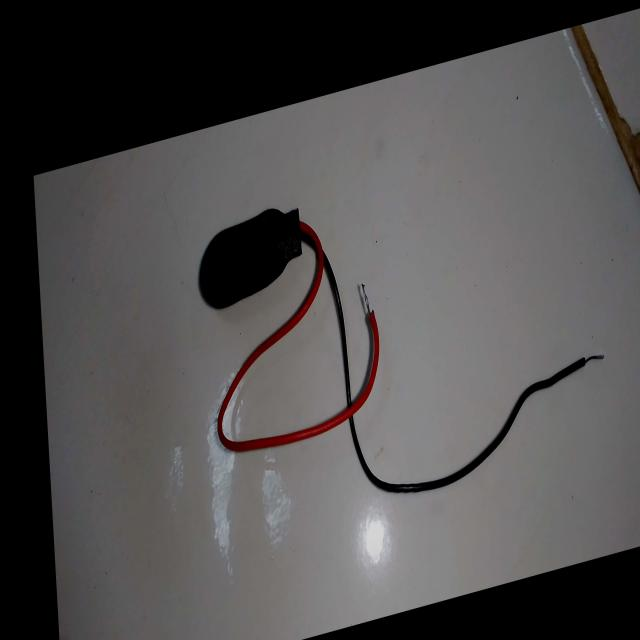Battery Holder: (189, 174, 392, 496)
